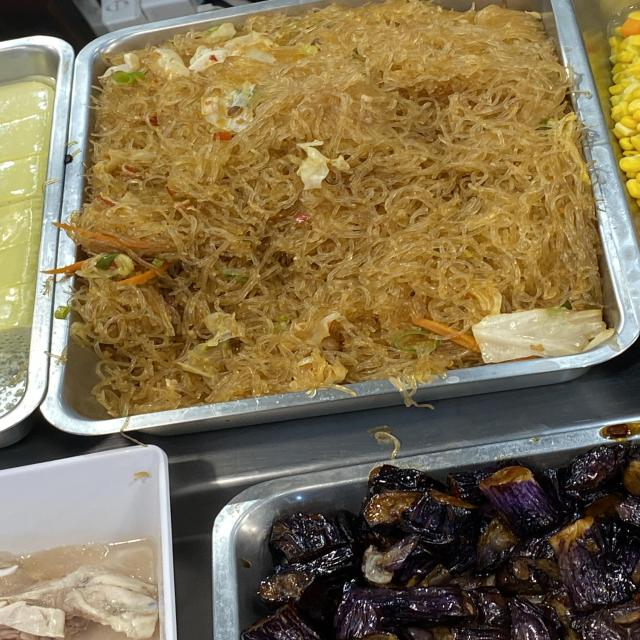Ants climbing the tree: (141, 74, 531, 340)
